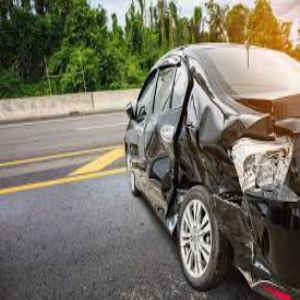bumper: (219, 197, 281, 297)
